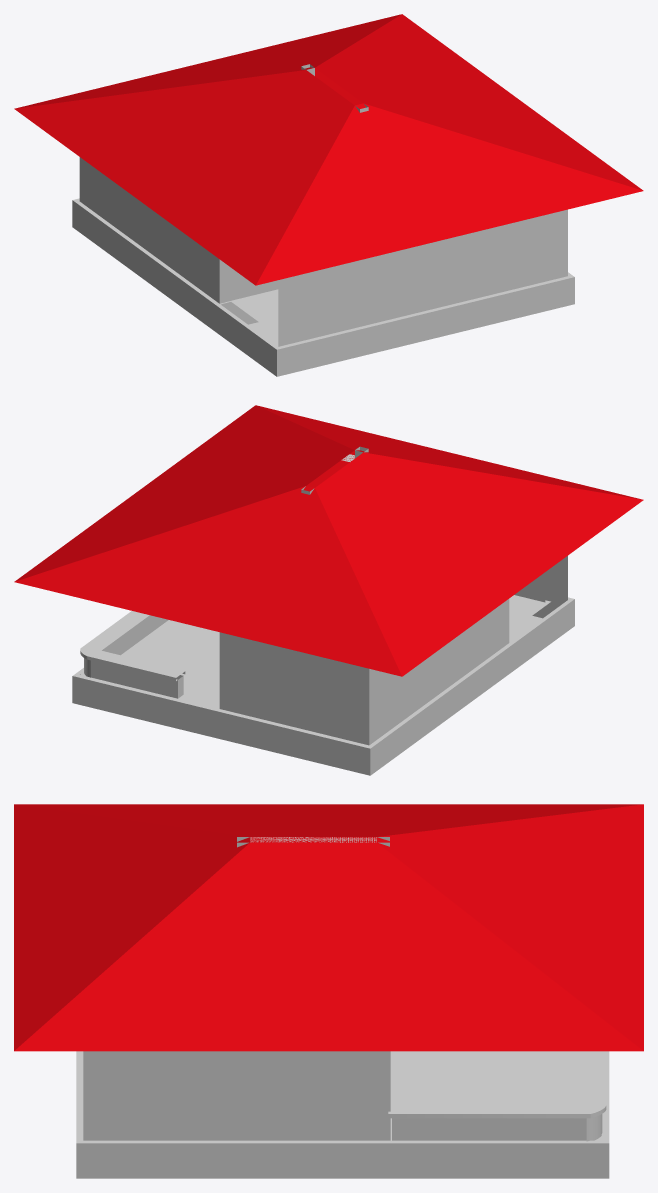
The model's file is home.glb.
3 renders of one model, top to bottom at view 1: azimuth 30°, elevation 25°; view 2: azimuth 150°, elevation 25°; view 3: azimuth 270°, elevation 25°, orthographic. The views are drawn at different scales.
Parts seen in each view (by area): view 1: Plane.002, Plane; view 2: Plane.002, Plane; view 3: Plane.002, Plane.
Part boxes in pixels (left/top/right/bottom): Plane.002: left=14, top=14, right=643, bottom=285; Plane: left=72, top=64, right=574, bottom=376; Plane.002: left=14, top=405, right=643, bottom=676; Plane: left=72, top=446, right=574, bottom=775; Plane.002: left=14, top=804, right=643, bottom=1051; Plane: left=76, top=837, right=609, bottom=1178.
Size of the model in its own units: 22.69 by 10.46 by 24.46.
